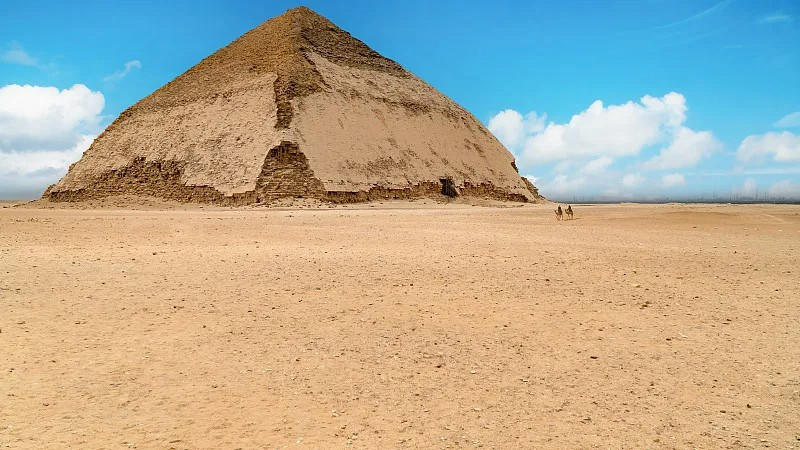Pyramid: (40, 7, 544, 202)
